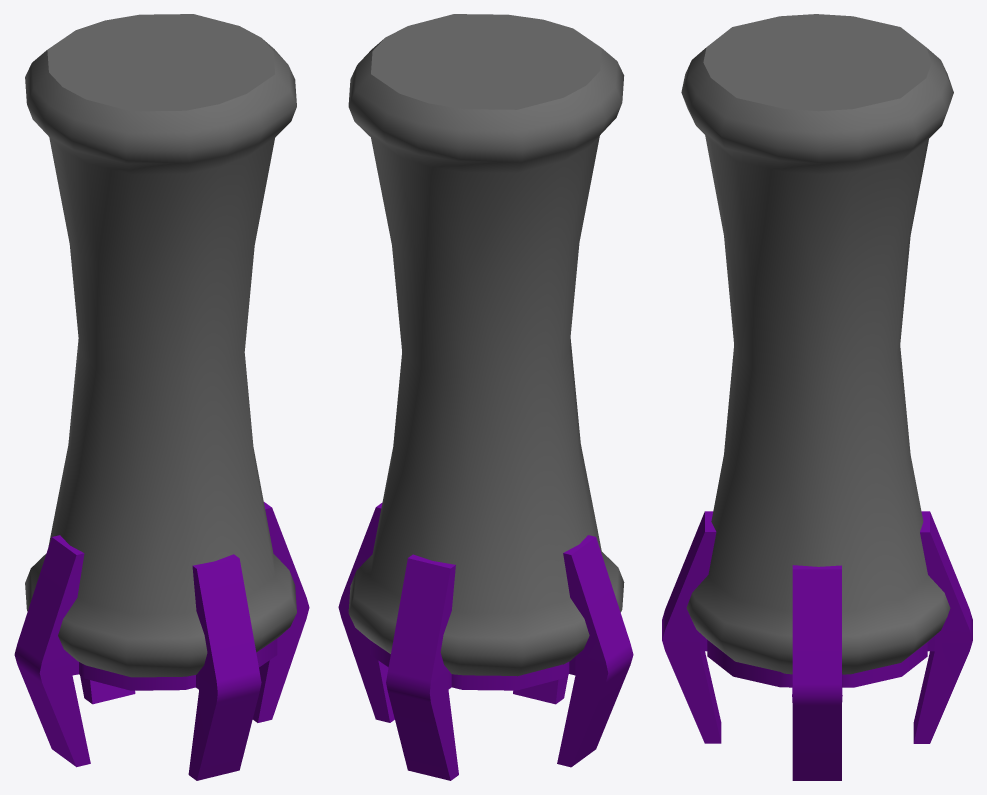
File: Tower_Stem.fbx
3 views of the same model, side by side, from view 1: azimuth 30°, elevation 25°; view 2: azimuth 150°, elevation 25°; view 3: azimuth 270°, elevation 25° (orthographic).
Visible parts, largest first — view 1: Stem_peice2; view 2: Stem_peice2; view 3: Stem_peice2.
Part boxes in pixels (box(x1,y1,x2,y2)): Stem_peice2: box(14, 14, 309, 780); Stem_peice2: box(338, 14, 633, 780); Stem_peice2: box(662, 14, 972, 780).
Size of the model in its own units: 0.8534 by 2.03 by 0.8534.
